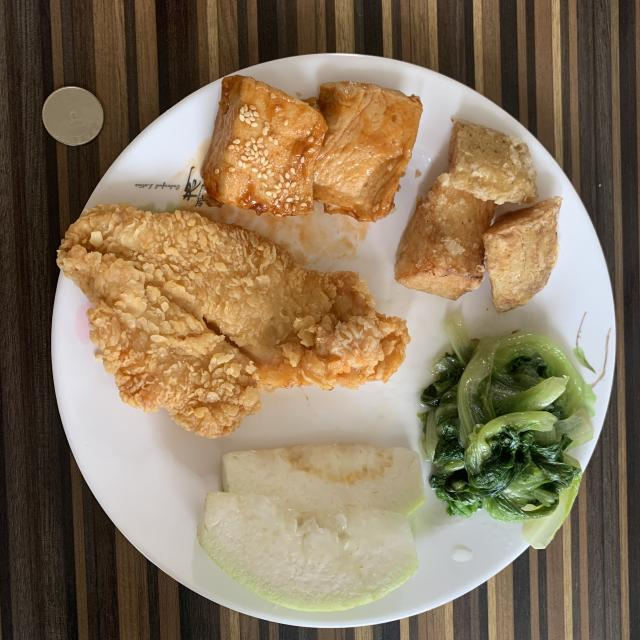coin: (42, 86, 104, 145)
creamy tofu: (201, 75, 422, 221)
fried chicken cutlet: (58, 204, 410, 438)
fried potato: (395, 120, 561, 312)
guava -sliced-: (198, 445, 425, 611)
mustard greens: (421, 322, 595, 522)
